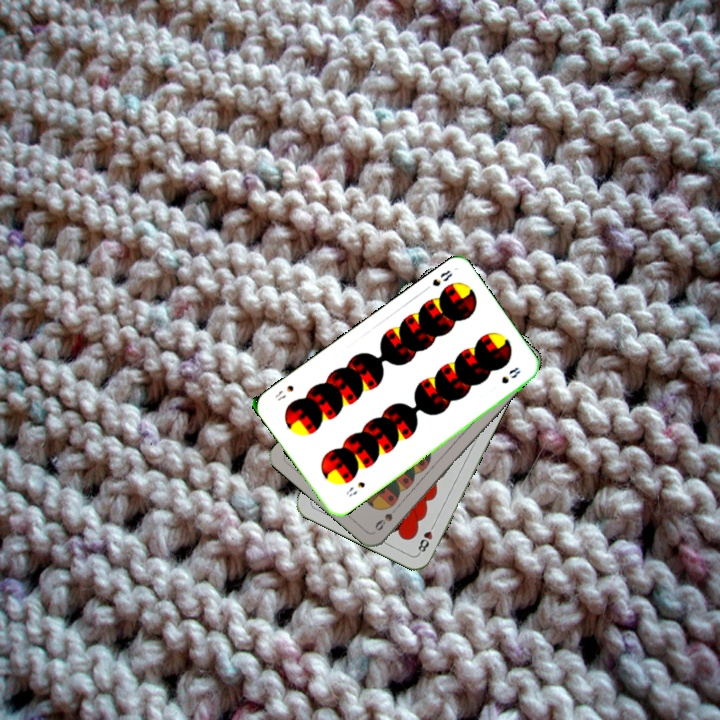H8: (414, 518, 438, 556)
S8: (428, 266, 455, 289), (342, 477, 368, 500)
S9: (370, 501, 402, 533)
